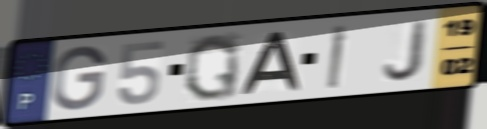5: (115, 38, 167, 107)
A: (238, 30, 305, 96)
G: (49, 44, 109, 112)
I: (325, 22, 351, 91)
J: (381, 17, 432, 83)
Q: (182, 31, 242, 103)
